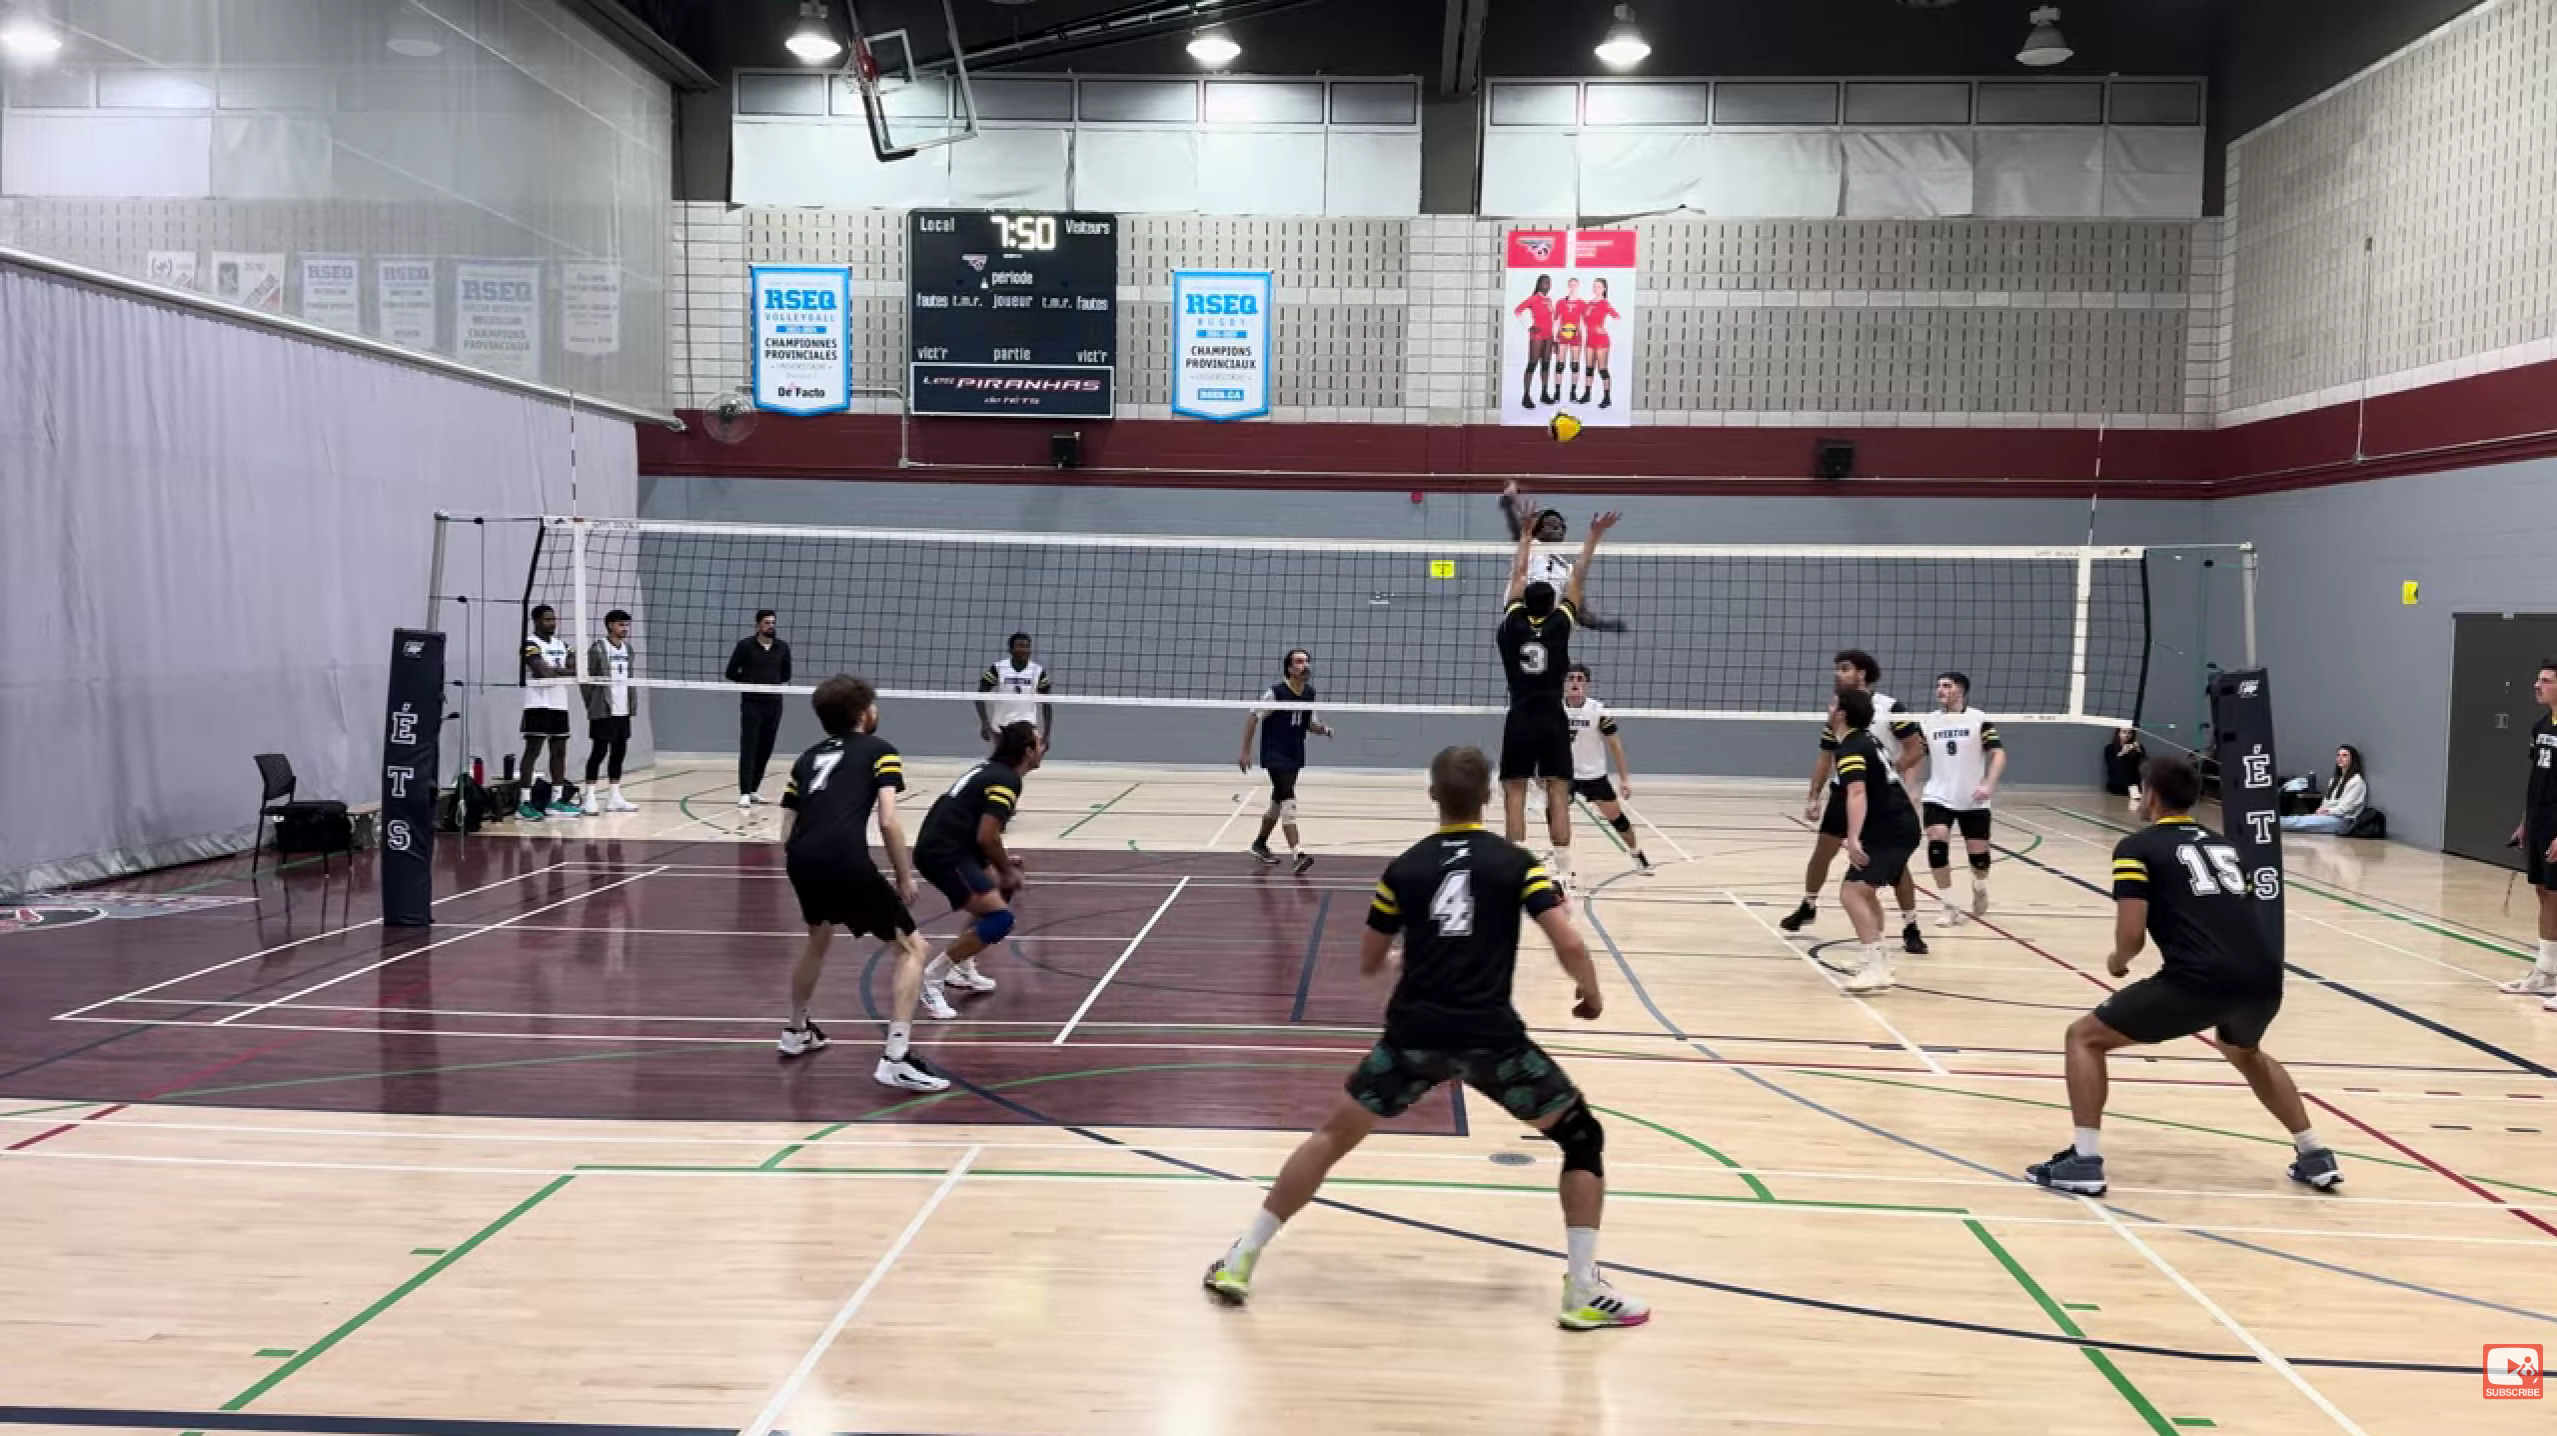Ball: (1544, 406, 1586, 448)
